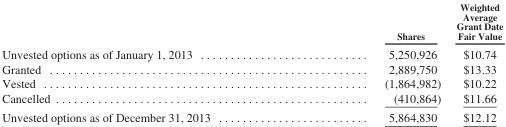table: (1, 0, 502, 123)
table column: (1, 0, 296, 123), (296, 0, 447, 123), (447, 0, 502, 123)
table column header: (1, 0, 502, 44)
table row: (1, 0, 502, 44), (1, 44, 502, 61), (1, 90, 502, 107), (1, 107, 502, 123), (1, 75, 502, 90), (1, 61, 502, 75)
